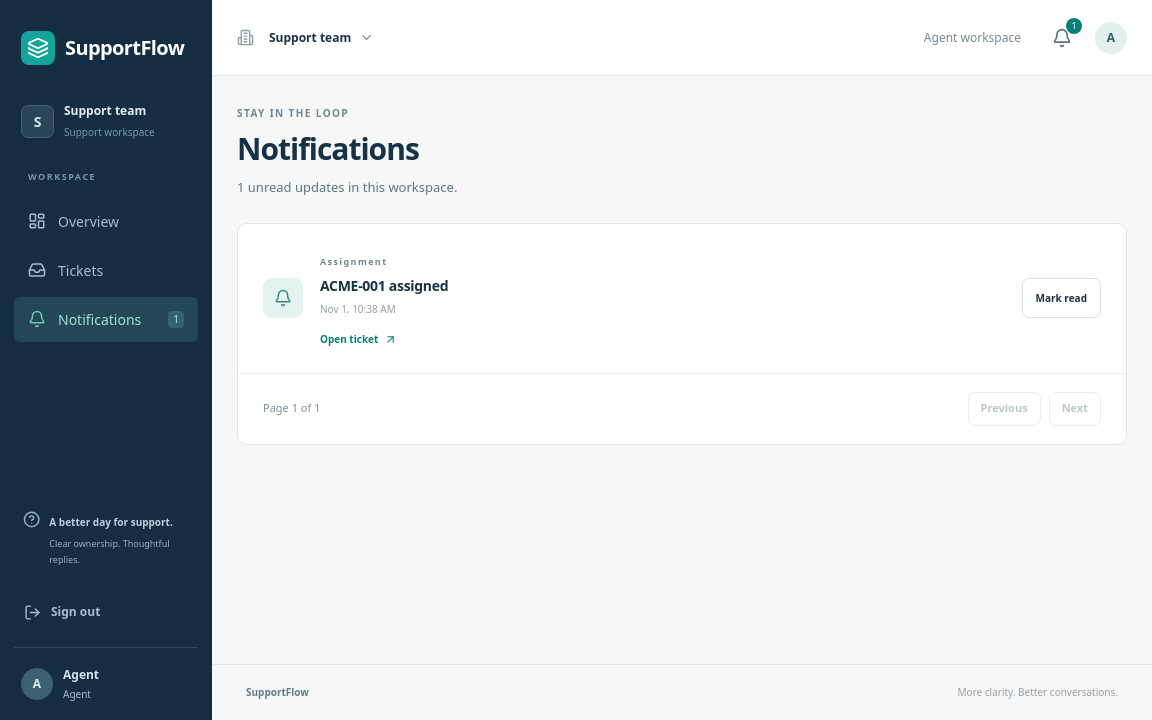
Scenario: refreshes the navigation unread count after marking a notification read
The image size is (1152, 720).
Expected: the link named "Notifications, 1 unread" is shown, top-left (1052, 18), bottom-right (1082, 48)
Click the button "Mark read" at (1061, 298), box top-left (1022, 278), bottom-right (1101, 318)
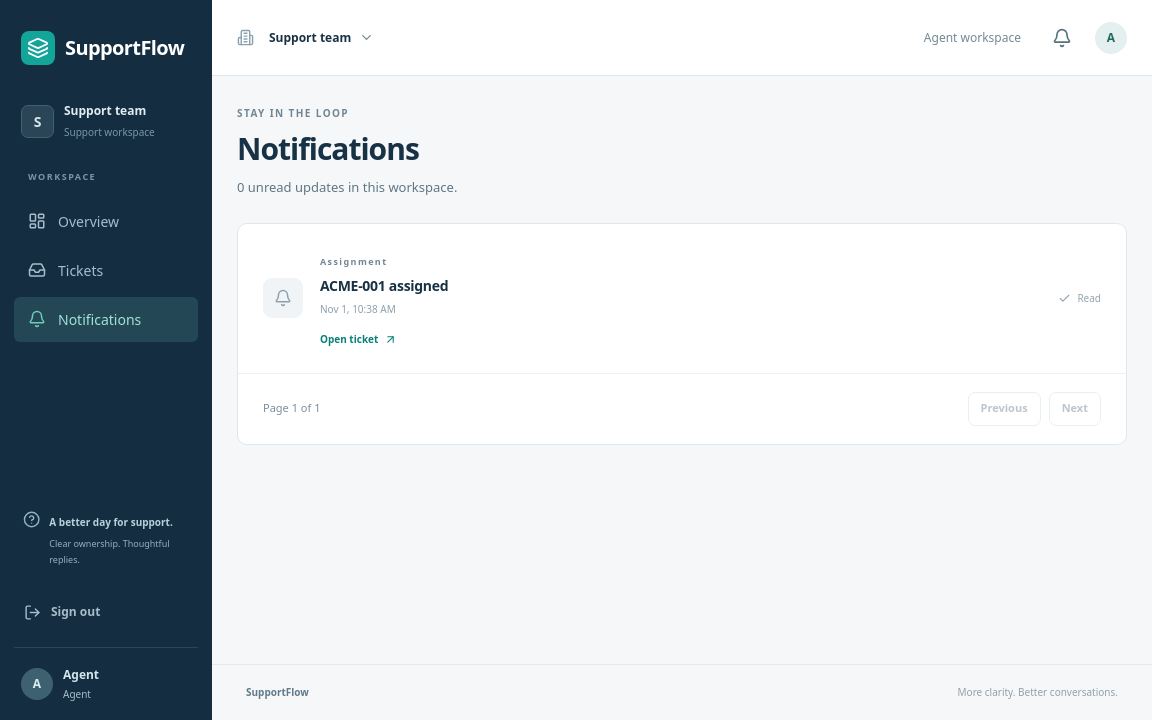
Result: the text "0 unread updates in this workspace." is shown at top-left (237, 178), bottom-right (457, 197)
